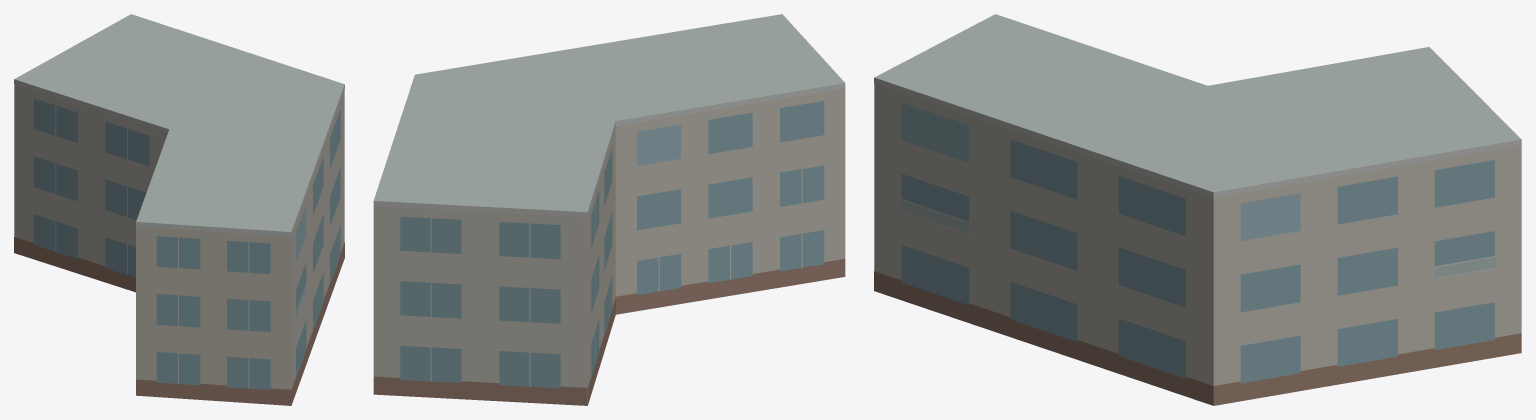
File: survey-upis-32776197.glb
The picture shows the model from 3 angles, left to right: view 1: azimuth 30°, elevation 25°; view 2: azimuth 150°, elevation 25°; view 3: azimuth 270°, elevation 25°; orthographic projection. The views are drawn at different scales.
Parts seen in each view (by area): view 1: survey-upis-32776197.tmp; view 2: survey-upis-32776197.tmp; view 3: survey-upis-32776197.tmp.
Boxes of the visible parts, x1,y1,x2,y2 form: survey-upis-32776197.tmp: [14, 14, 344, 405]; survey-upis-32776197.tmp: [373, 14, 845, 405]; survey-upis-32776197.tmp: [874, 14, 1521, 405].
Size of the model in its own units: 16.4 by 9.15 by 25.16.
